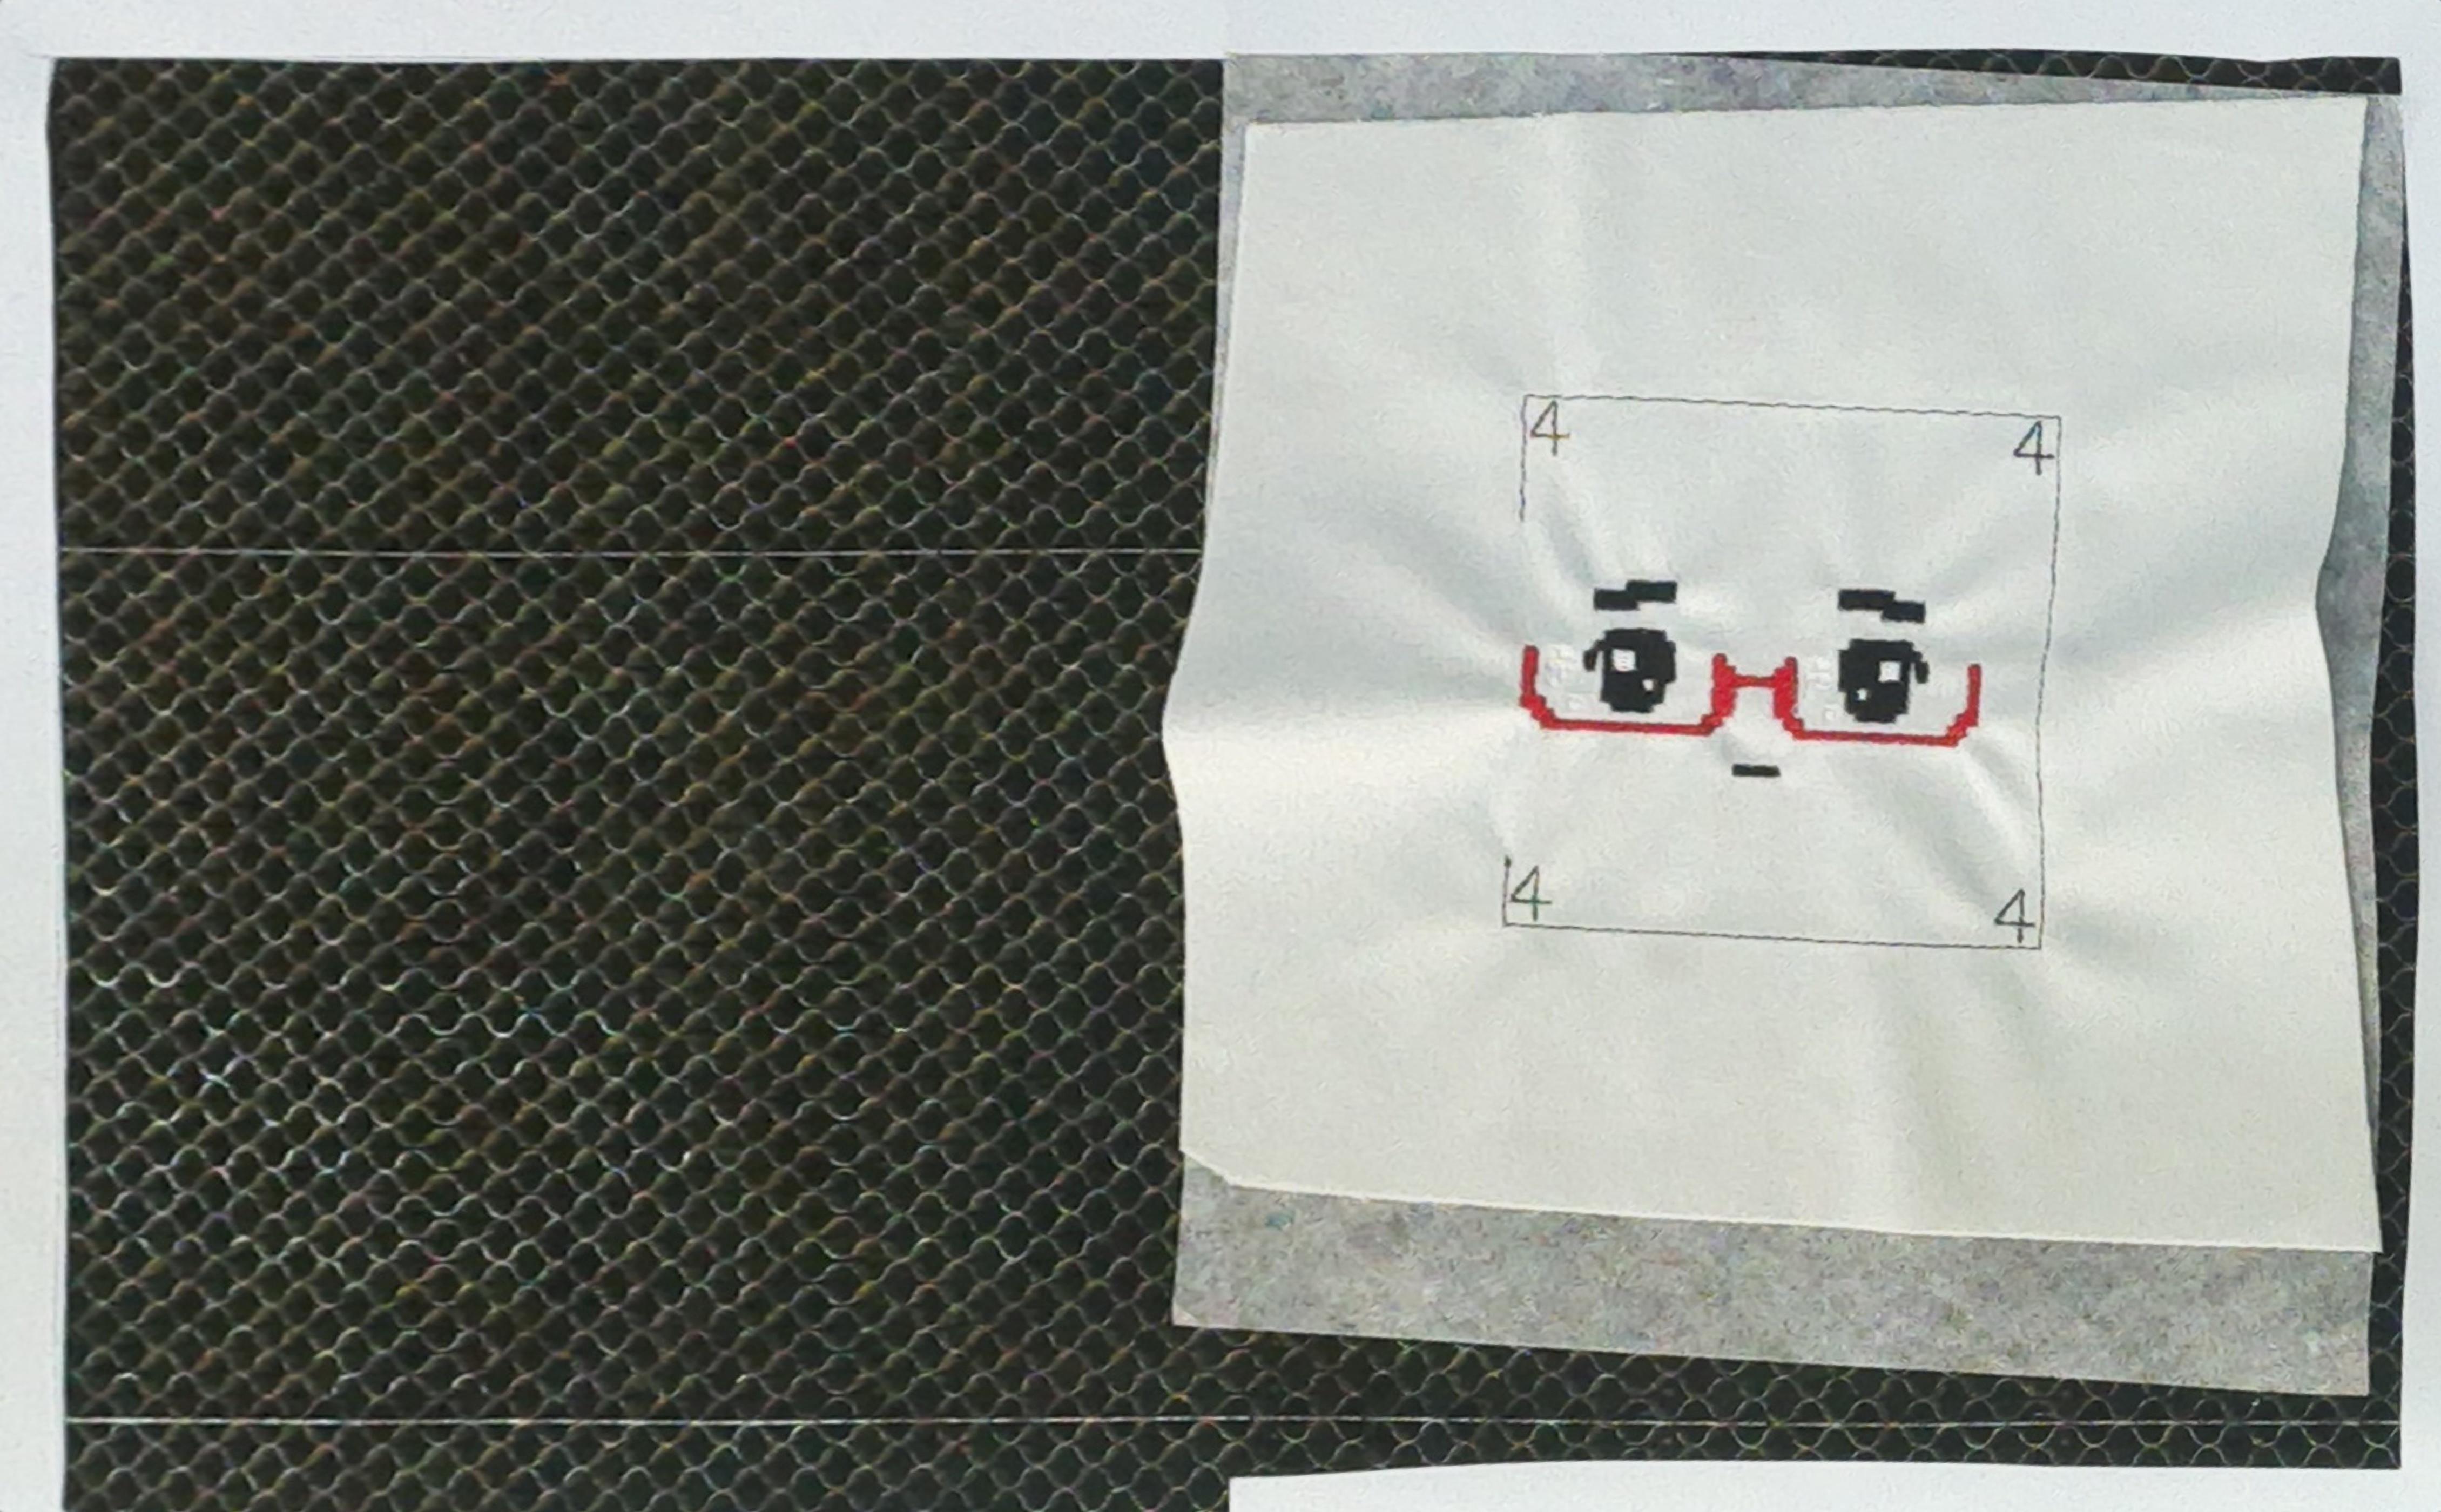4 -: (2012, 410, 2061, 483), (1512, 856, 1555, 926), (1993, 888, 2042, 945), (1531, 403, 1576, 464)
